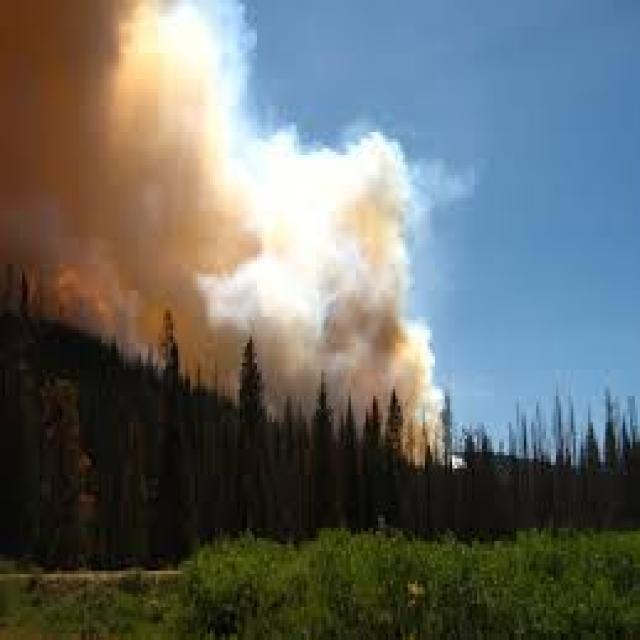Smoke: (14, 10, 414, 376)
